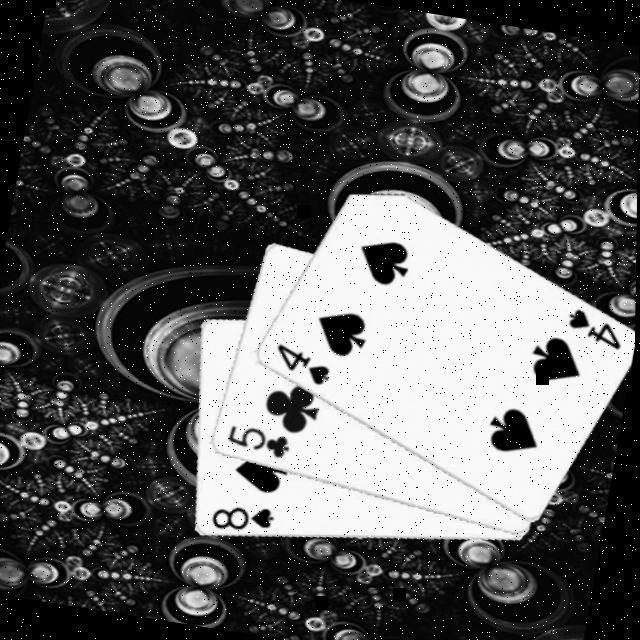4S: (266, 341, 336, 391), (558, 306, 628, 356)
5C: (220, 423, 293, 465)
8S: (206, 499, 277, 541)
